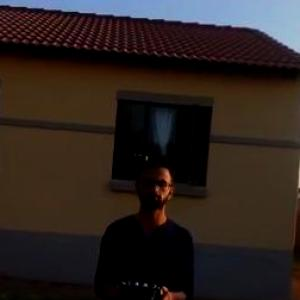follow: (86, 142, 196, 298)
